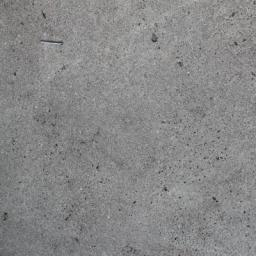FOD: (40, 38, 67, 51)
